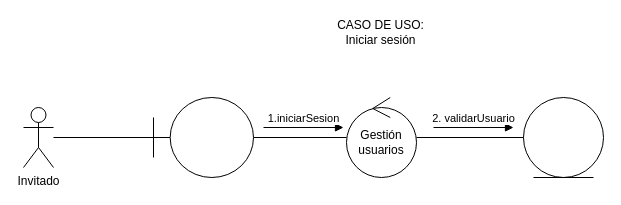
Some shapes in this 621 by 205 pixel diagram are drawn without their labels. The shapes that lost their labels are listed below. From the top down, each one's centre as x and y in pixels, then its label:
pixel 203 137: Inicio de sesión
pixel 563 137: Usuarios
